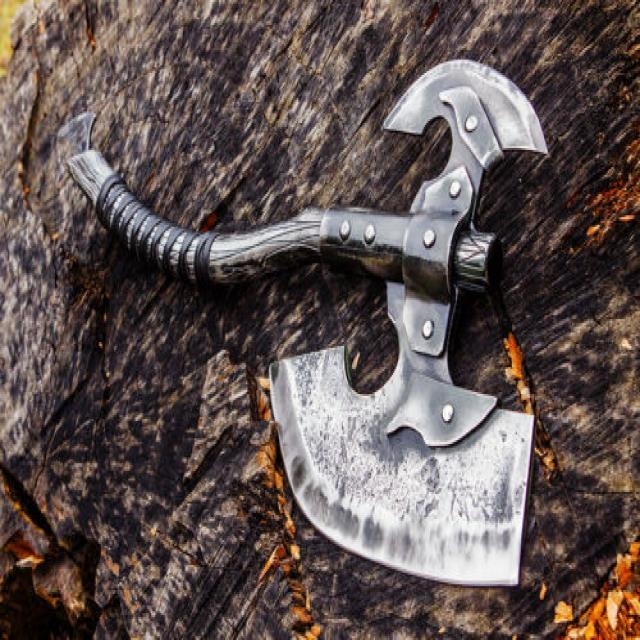axe: (66, 57, 551, 591)
